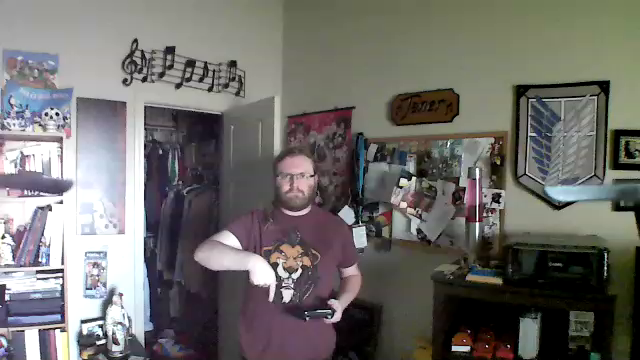down: (246, 244, 278, 312)
